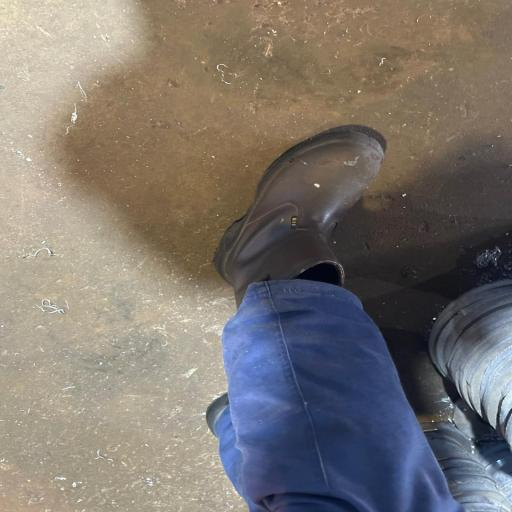safety_shoe: (195, 109, 395, 304)
